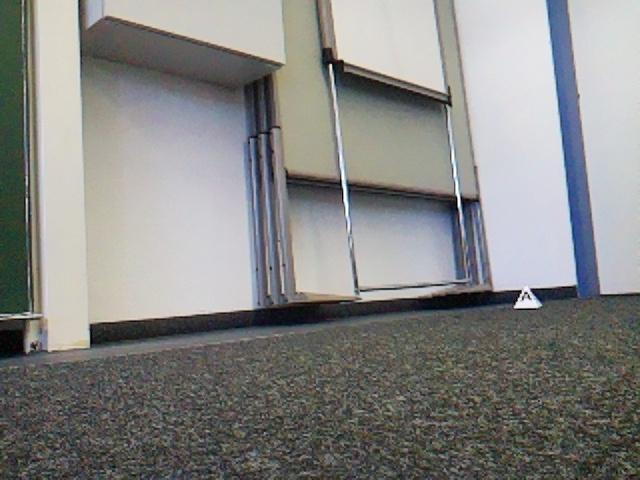A: (516, 285, 541, 308)
